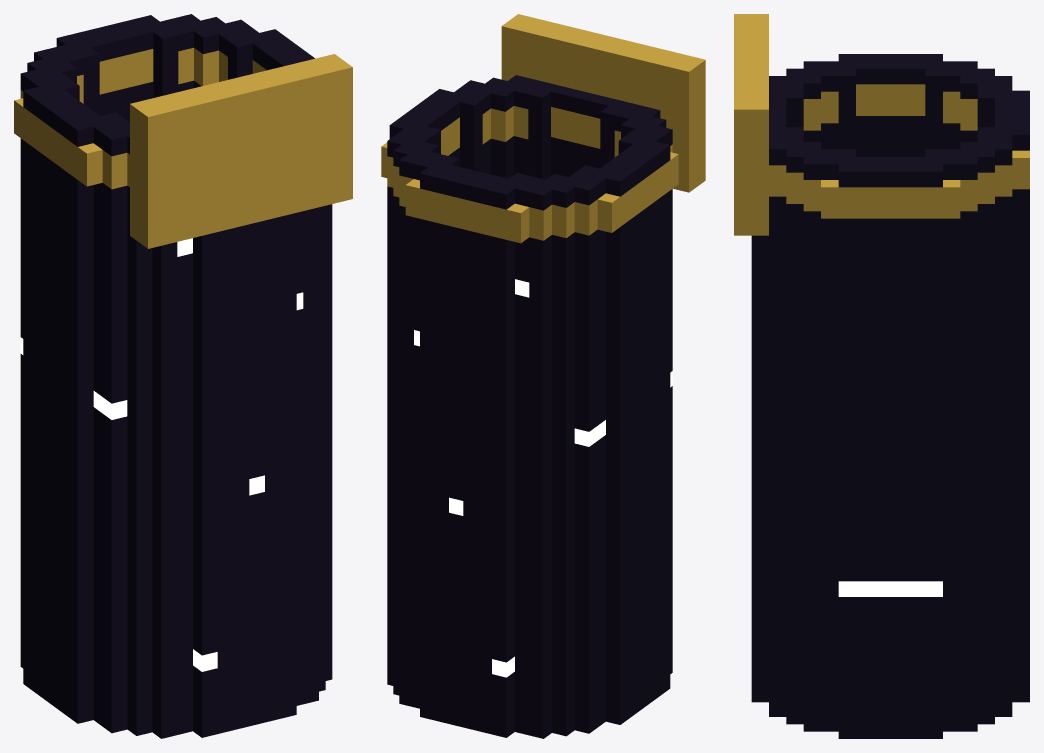
File: mystic_legendary_leg_L.glb
The picture shows the model from 3 angles, left to right: view 1: azimuth 30°, elevation 25°; view 2: azimuth 150°, elevation 25°; view 3: azimuth 270°, elevation 25°; orthographic projection. The views are drawn at different scales.
Visible parts, largest first — view 1: mystic_legendary_leg_L; view 2: mystic_legendary_leg_L; view 3: mystic_legendary_leg_L.
Boxes of the visible parts, x1,y1,x2,y2 form: mystic_legendary_leg_L: [14, 14, 352, 738]; mystic_legendary_leg_L: [381, 14, 705, 738]; mystic_legendary_leg_L: [734, 14, 1029, 738].
Bounding box in the file's own units: 0.192 × 0.468 × 0.204.
